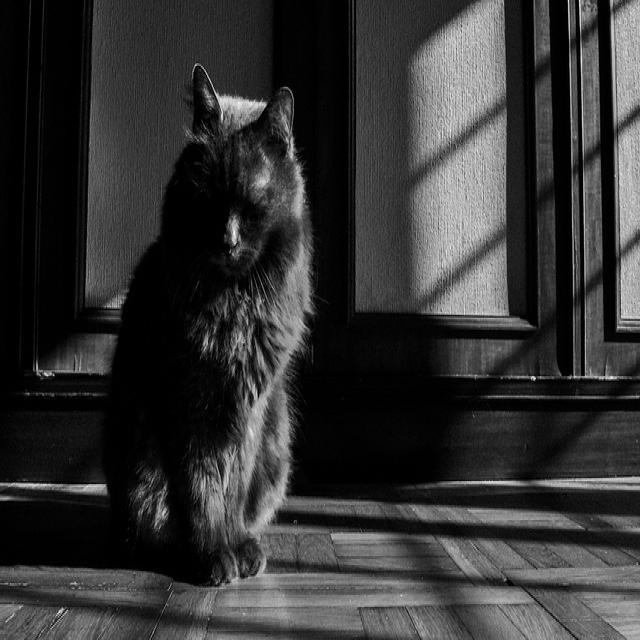Cat: (99, 53, 331, 640)
